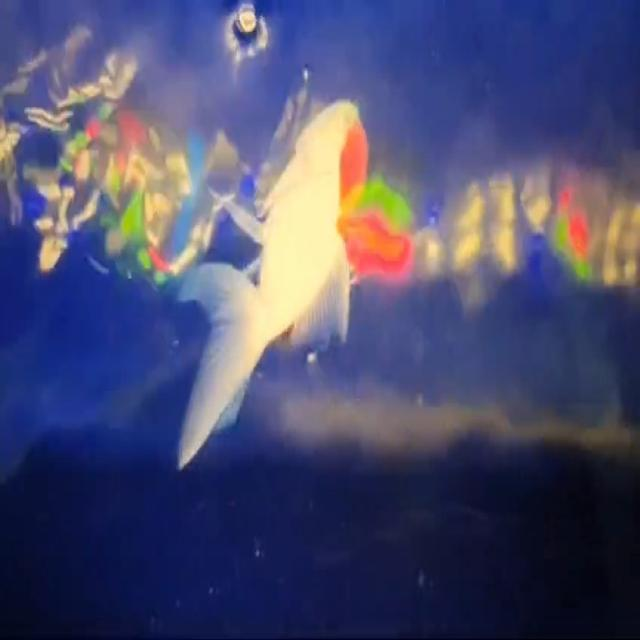fish: (181, 96, 371, 485)
